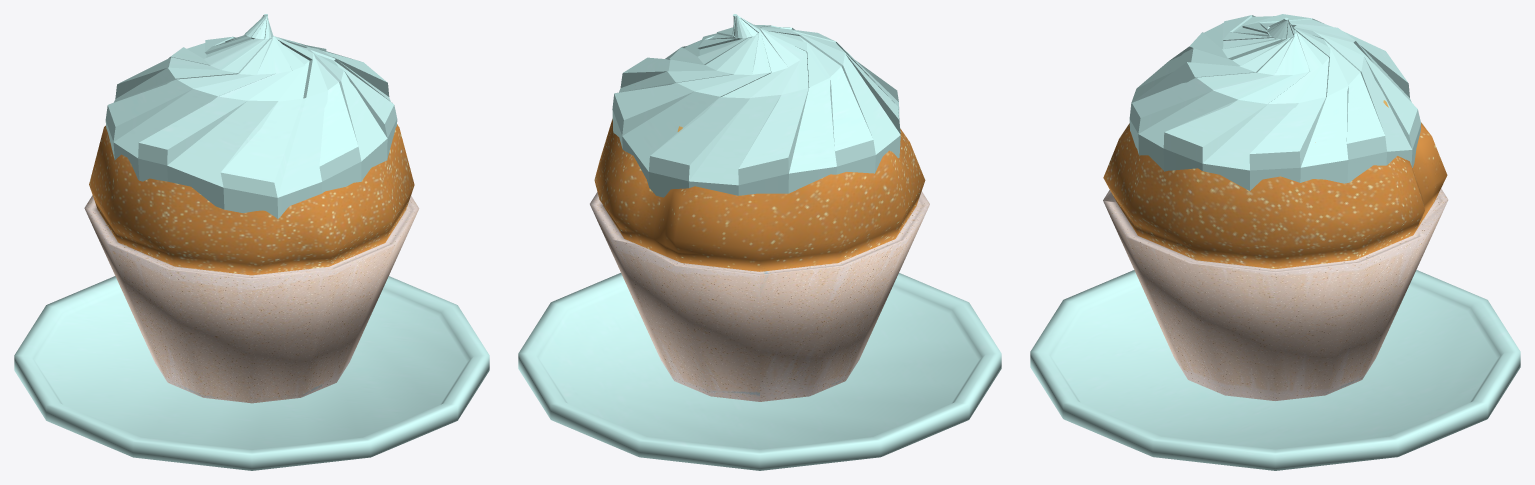
File: Babeczka.fbx
3 views of the same model, side by side, from view 1: azimuth 30°, elevation 25°; view 2: azimuth 150°, elevation 25°; view 3: azimuth 270°, elevation 25° (orthographic). The views are drawn at different scales.
Parts seen in each view (by area): view 1: Cylinder; view 2: Cylinder; view 3: Cylinder.
Part boxes in pixels (x1=…): Cylinder: x1=14, y1=14, x2=489, y2=470; Cylinder: x1=518, y1=14, x2=1001, y2=470; Cylinder: x1=1030, y1=14, x2=1520, y2=470.
Size of the model in its own units: 249 by 201 by 249.
